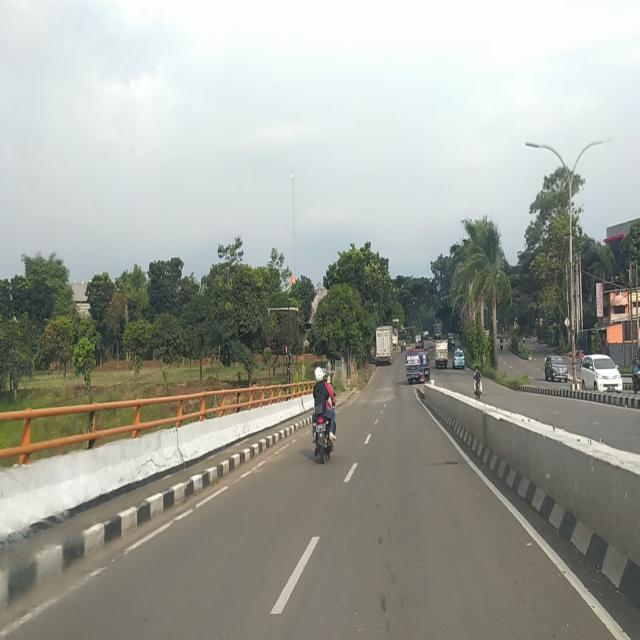Sewer Cover: (422, 460, 460, 468)
